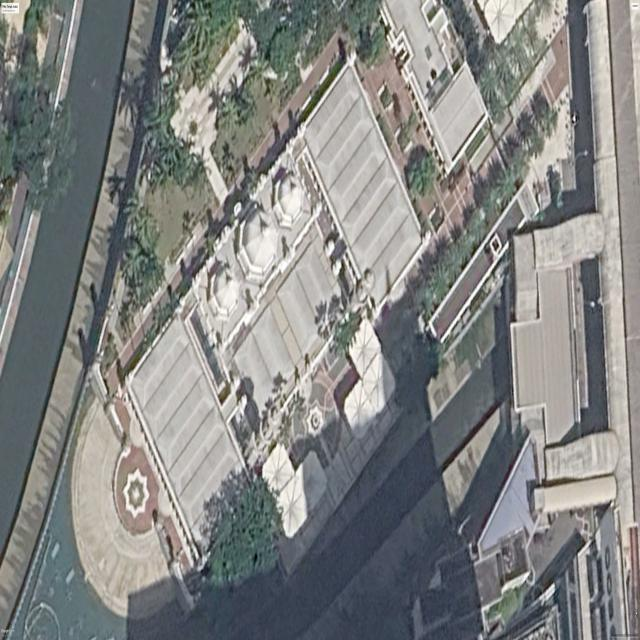mosque: (126, 59, 431, 563)
